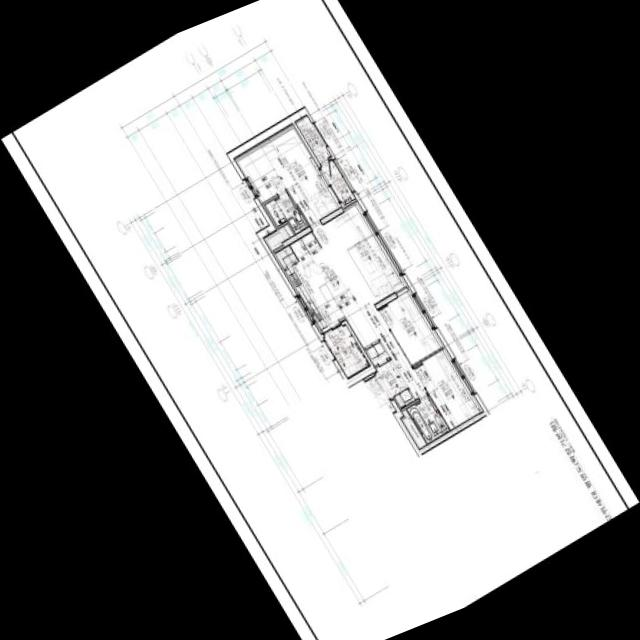background: (1, 0, 639, 640)
space_balconi: (324, 324, 369, 376), (320, 159, 355, 203)
space_bedroom: (234, 123, 341, 225), (413, 347, 482, 429), (378, 288, 443, 363)
space_front: (364, 341, 412, 406)
space_kitchen: (273, 231, 358, 332)
space_living_room: (312, 200, 426, 398)
space_other: (393, 397, 426, 448), (263, 223, 293, 250)
space_outdoor_room: (295, 115, 331, 162)
space_toilet: (407, 395, 449, 442), (265, 191, 307, 233)
